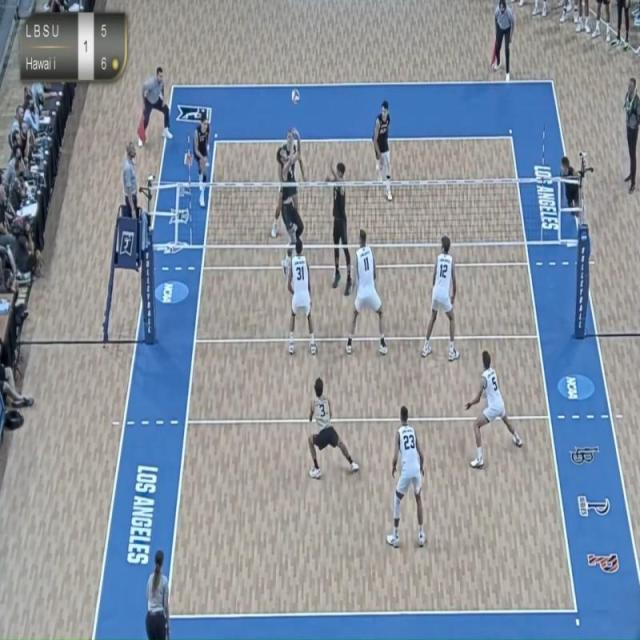volleyball: (288, 85, 303, 108)
